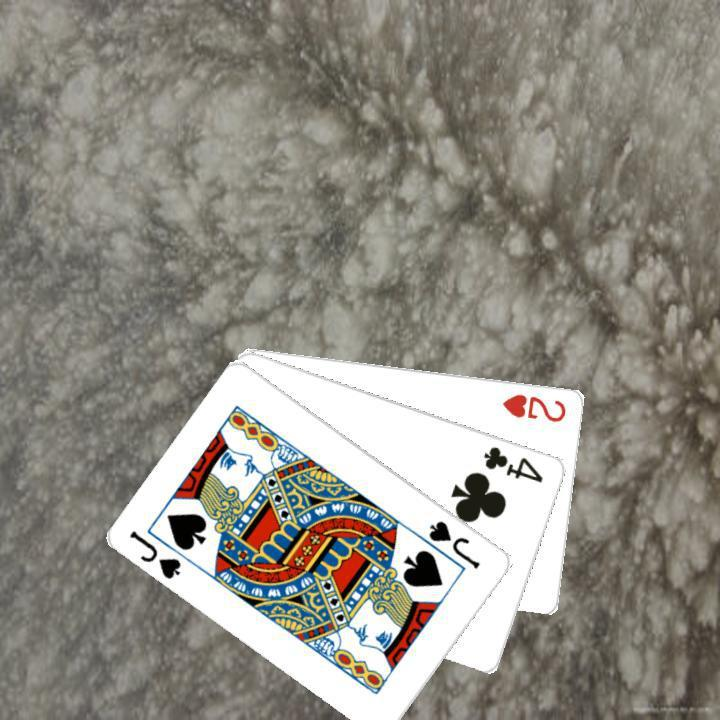2: (498, 389, 569, 424)
4: (480, 442, 546, 484)
J: (125, 526, 184, 582), (424, 516, 483, 571)
